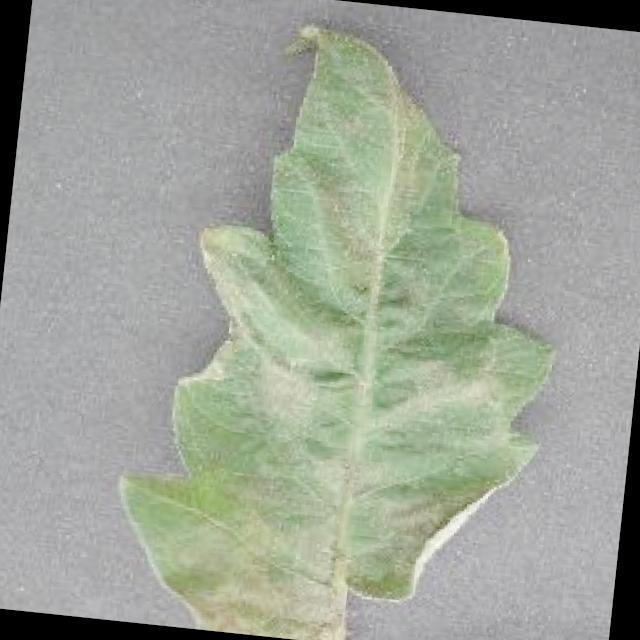Tomato late blight leaf: (99, 4, 595, 640)
